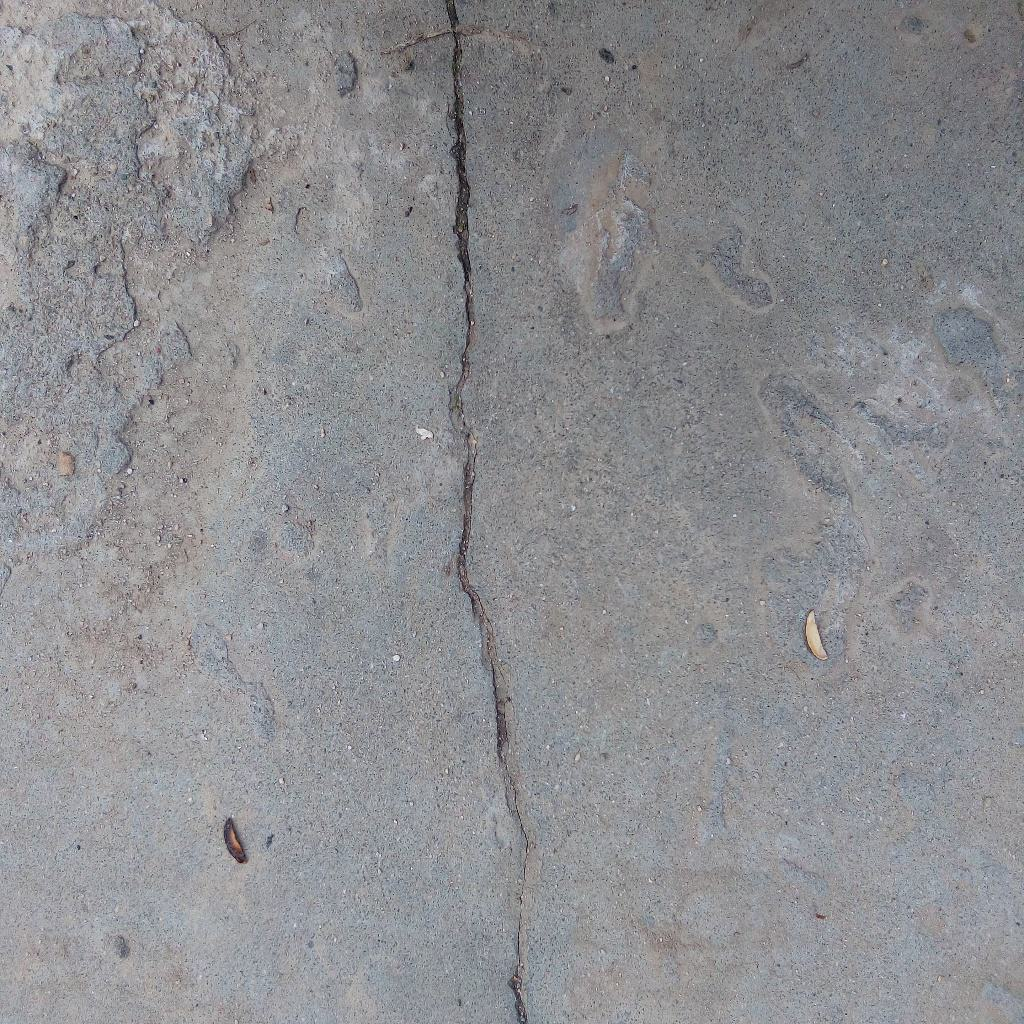Crack: (443, 1, 533, 1024)
